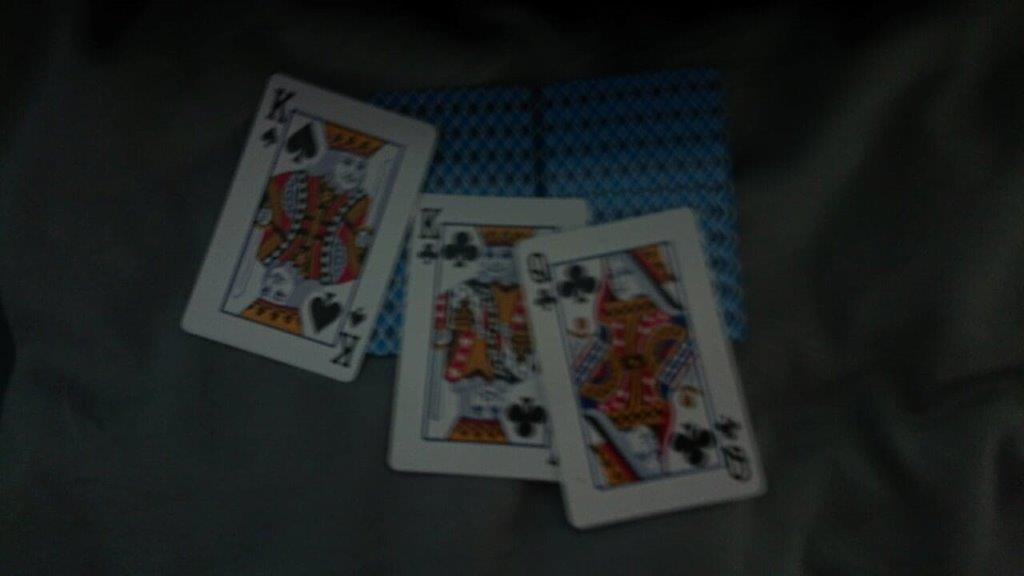BACK: (541, 67, 728, 141), (541, 140, 729, 198), (440, 85, 535, 194)
KC: (414, 201, 446, 268)
KS: (256, 83, 299, 151)
QC: (523, 246, 562, 315)
